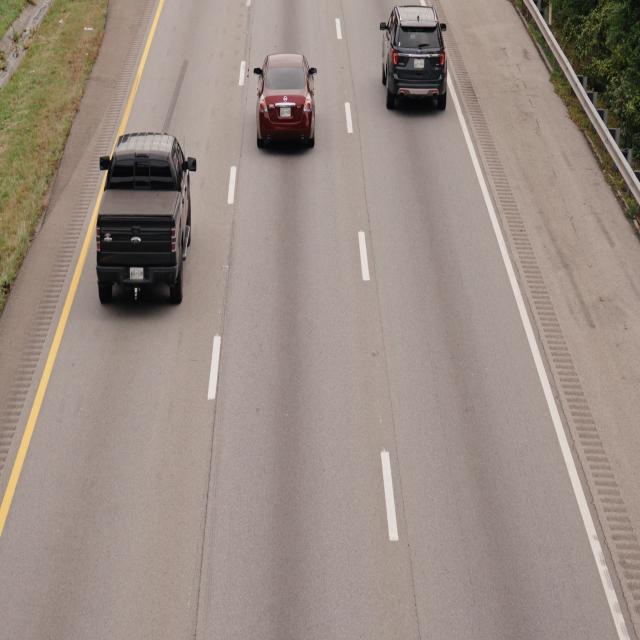Car: (94, 126, 200, 304), (380, 4, 452, 114), (254, 48, 320, 153)
